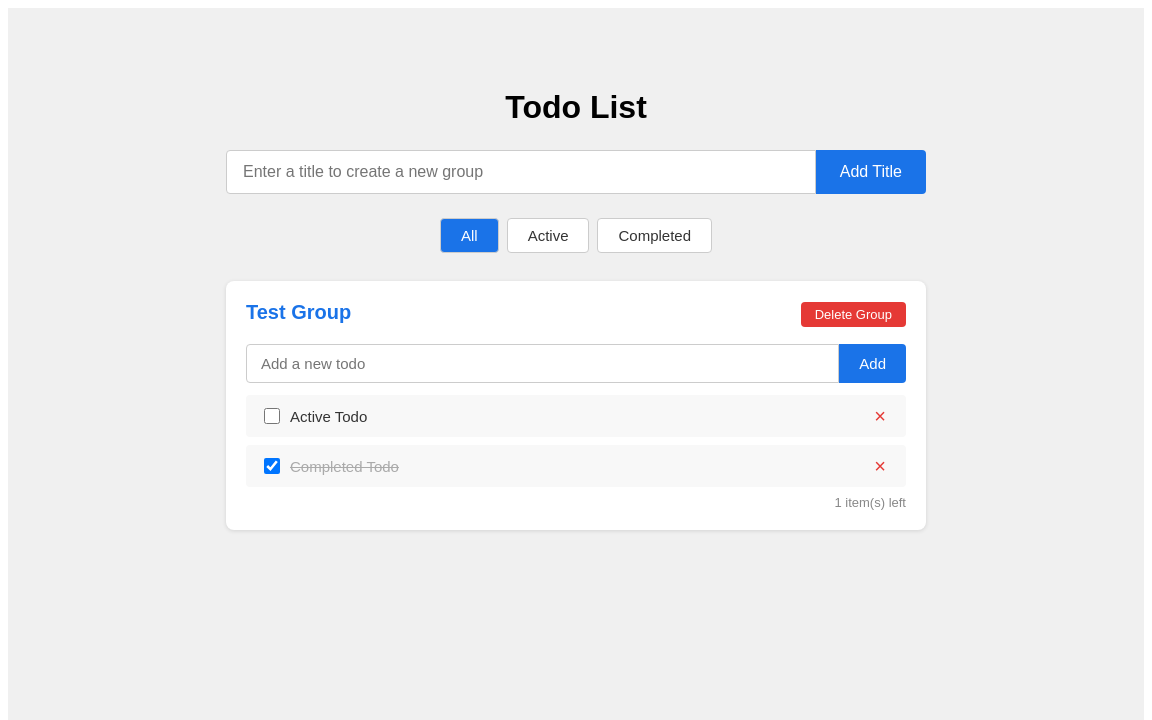
Test case: Filter functionality › "Active" filter shows only incomplete todos
Expected: the text "Active Todo" is shown, [290,408,367,425]
Click the button with test id "filter-active".
click(548, 236)  # box [507,218,590,253]
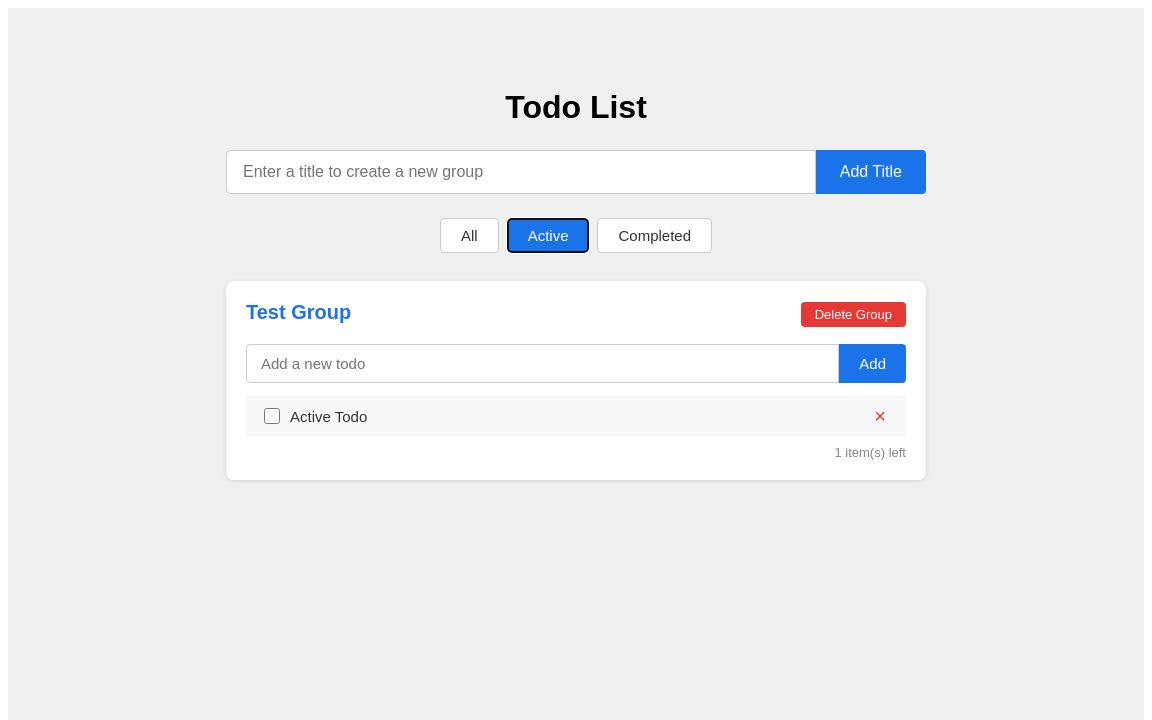
Expected: the text "Active Todo" is shown, [290,408,367,425]
Result: the text "Completed Todo" is gone
